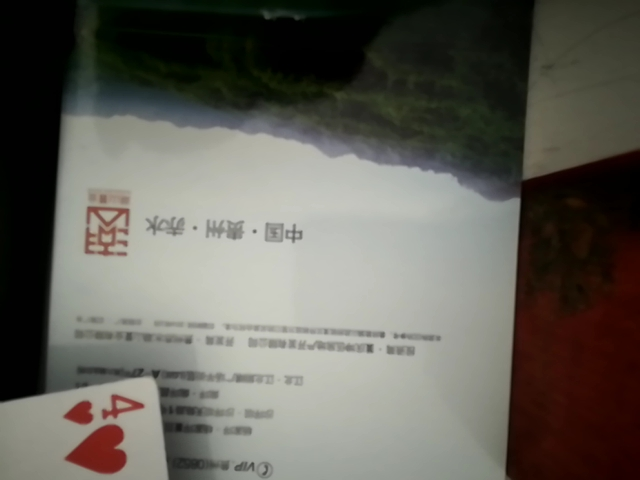hx 4: (3, 365, 211, 480)
